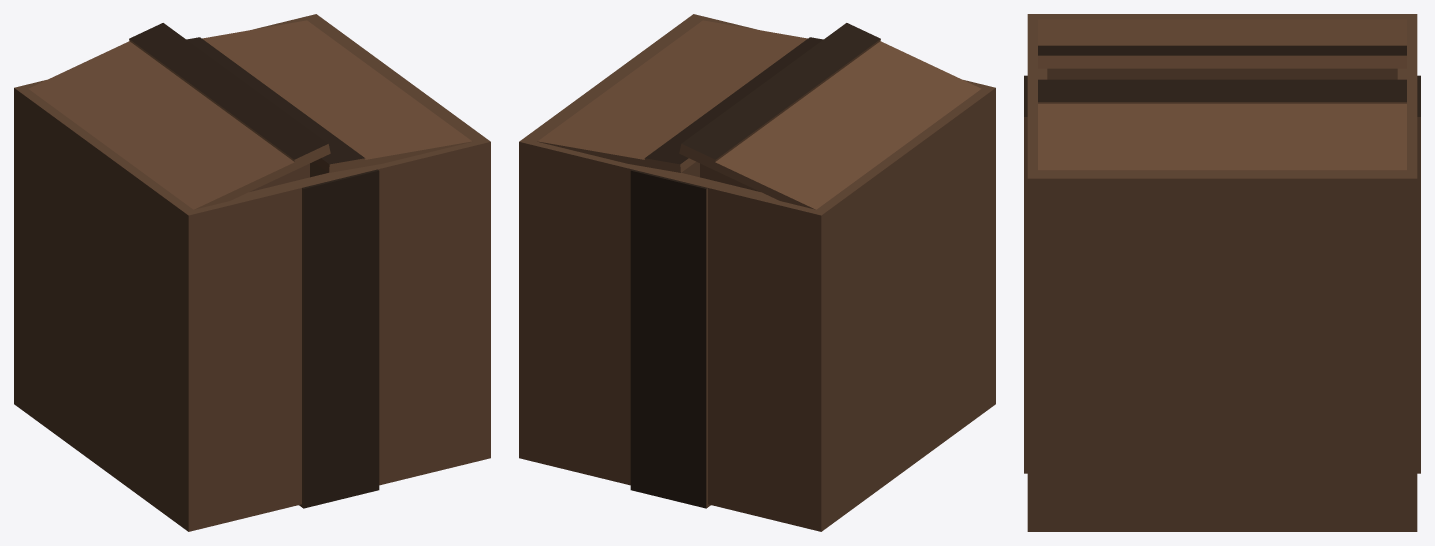
The model's file is CardBoardBoxMod1.fbx.
3 renders of one model, left to right at view 1: azimuth 30°, elevation 25°; view 2: azimuth 150°, elevation 25°; view 3: azimuth 270°, elevation 25°, orthographic. The views are drawn at different scales.
Parts seen in each view (by area): view 1: Cube, Right Cover, LeftCover; view 2: Cube, Right Cover, LeftCover; view 3: Cube, LeftCover, Right Cover.
Boxes of the visible parts, left/top/right/bottom form: Cube: left=14, top=14, right=490, bottom=531; Right Cover: left=28, top=23, right=330, bottom=209; LeftCover: left=186, top=20, right=472, bottom=172; Cube: left=519, top=14, right=995, bottom=531; Right Cover: left=679, top=23, right=981, bottom=209; LeftCover: left=537, top=20, right=823, bottom=172; Cube: left=1024, top=14, right=1420, bottom=531; LeftCover: left=1038, top=79, right=1406, bottom=170; Right Cover: left=1038, top=19, right=1406, bottom=68.
Bounding box in the file's own units: 200 × 223 × 204.
